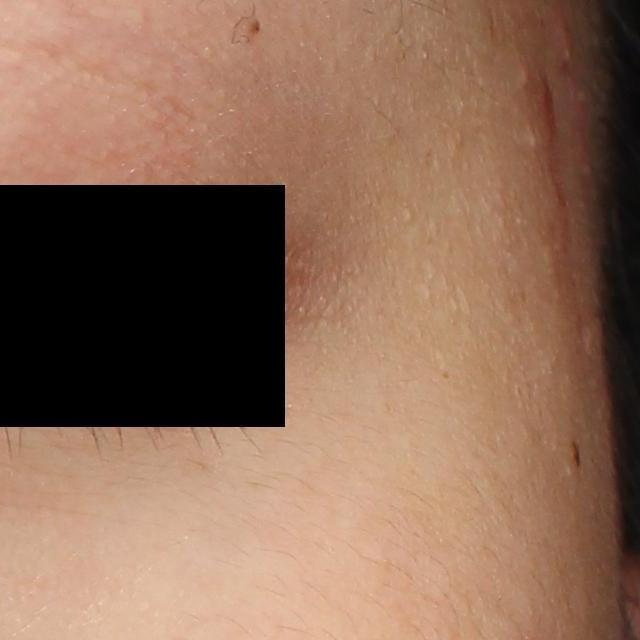nevus: (567, 438, 585, 470), (244, 14, 266, 38)
